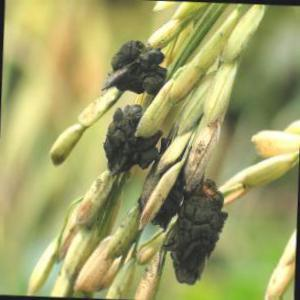Leaf_Scald: (175, 180, 220, 285), (107, 109, 159, 171), (104, 44, 166, 91)
